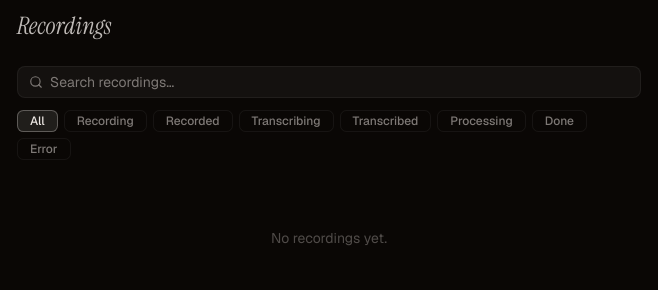
Recordings — search › shows result count text after search returns
Type "standup" into the field with placeholder "Search recordings…".
click(329, 82); type("standup")  # box [17, 66, 641, 98]
Wait 300 ms
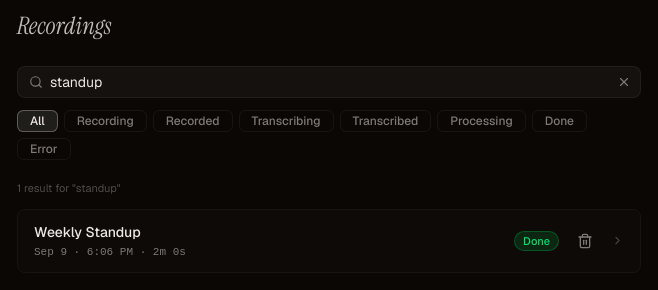
Expected: the text "1 result for \"standup\"" is shown, [17, 181, 121, 195]
